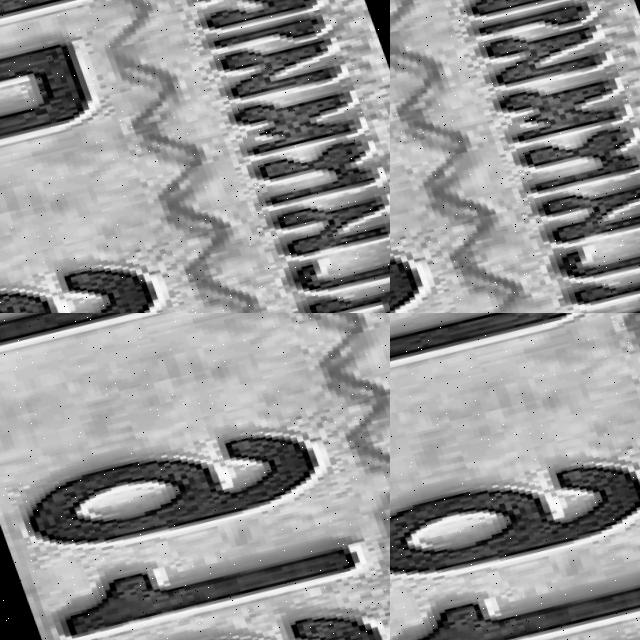license-plate: (0, 0, 304, 313), (0, 313, 347, 557), (390, 313, 640, 640), (390, 0, 640, 313)
